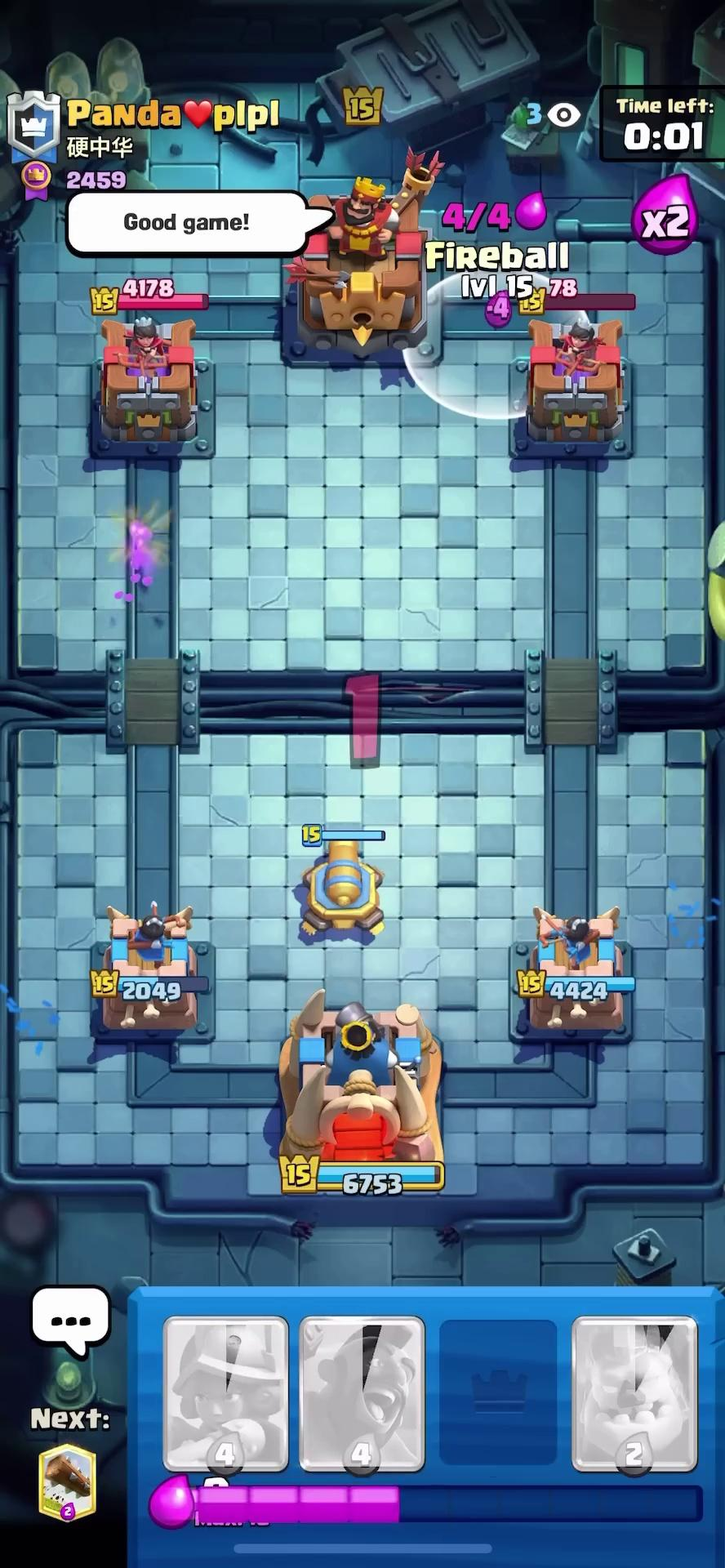cannon: (280, 825, 410, 949)
